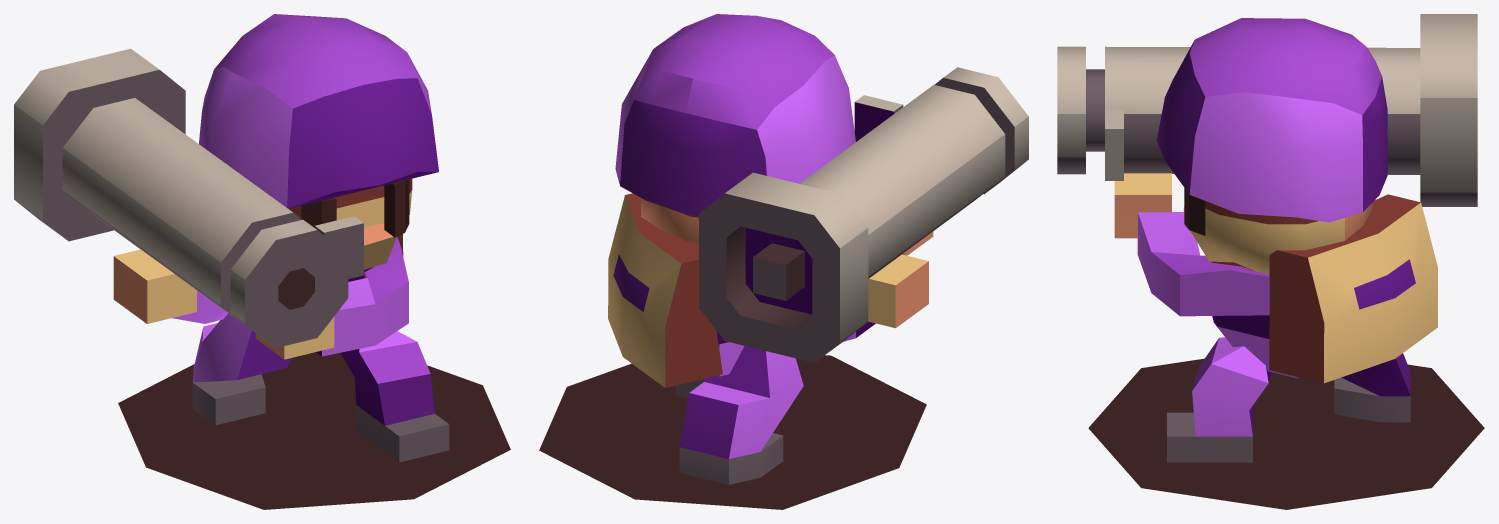
File: MechMesh.PurpleLightning.glb
3 views of the same model, side by side, from view 1: azimuth 30°, elevation 25°; view 2: azimuth 150°, elevation 25°; view 3: azimuth 270°, elevation 25° (orthographic).
Visible parts, largest first — view 1: MechMesh.PurpleLightning; view 2: MechMesh.PurpleLightning; view 3: MechMesh.PurpleLightning.
Part boxes in pixels (box(x1,y1,x2,y2)): MechMesh.PurpleLightning: box(14, 14, 510, 509); MechMesh.PurpleLightning: box(539, 14, 1028, 509); MechMesh.PurpleLightning: box(1057, 14, 1484, 509).
Size of the model in its own units: 2.24 by 2.3 by 2.24.
1 material, 1 textured.
